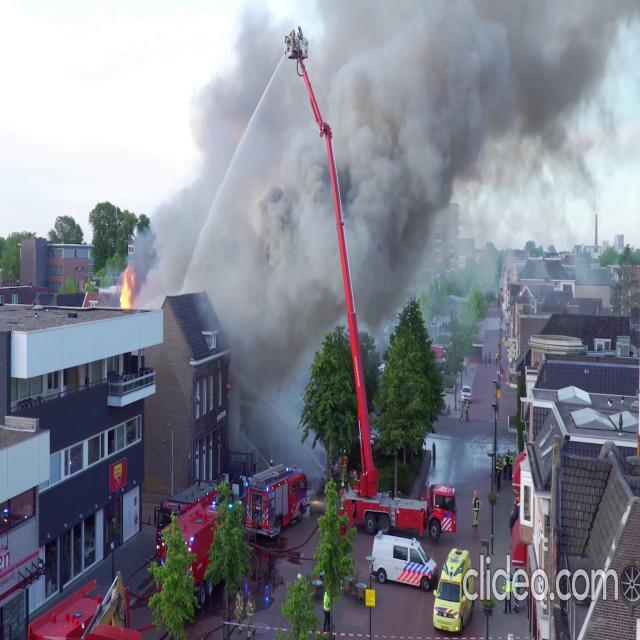Fire: (117, 266, 134, 312)
Smoke: (141, 0, 635, 364)
